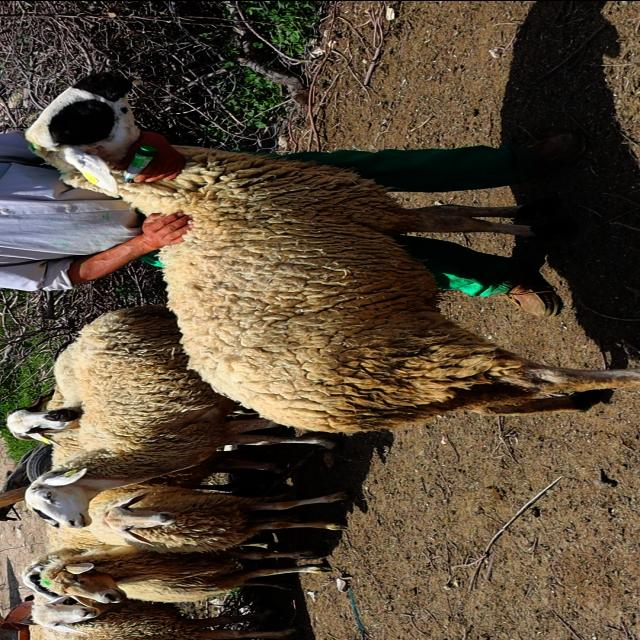Score_5: (25, 72, 639, 432)
